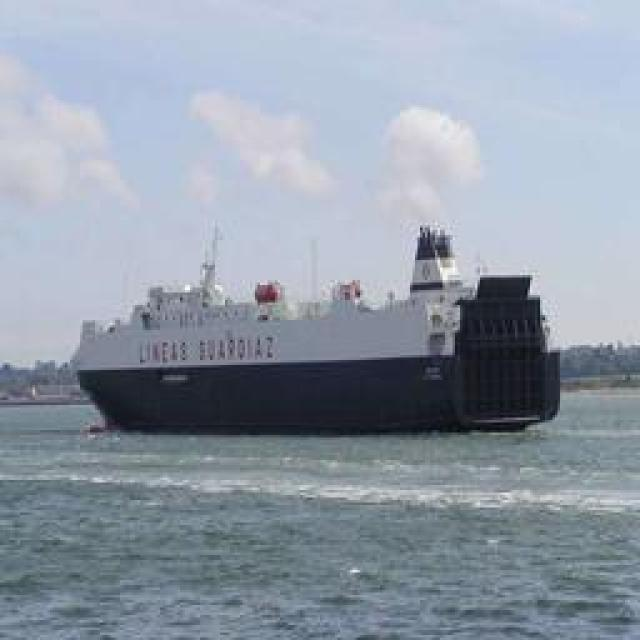CIV_Ship: (71, 170, 559, 432)
